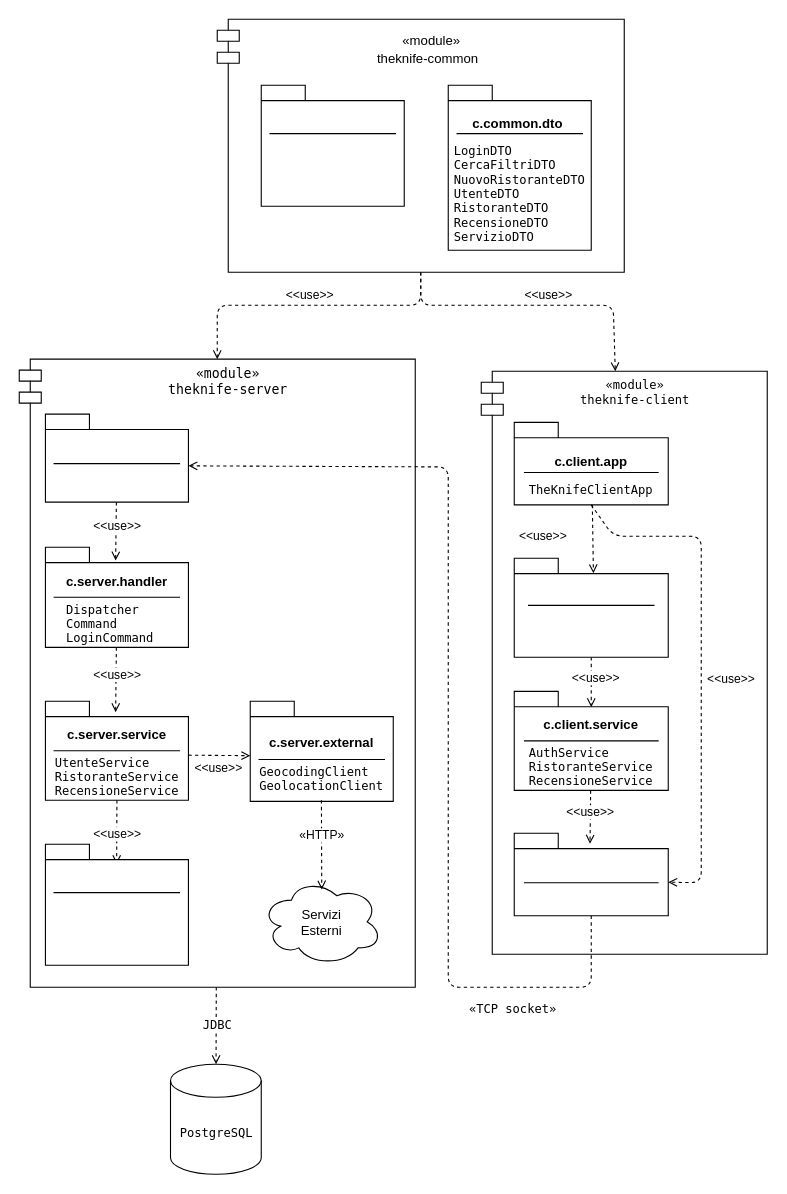
This 787x1194 diagram has some shape labels left out. Each missing label, with the centre of its shape:
"c.client.network ServerConnection" goes at point (590, 874).
"c.client.ui LoginController HomeController DettaglioController" goes at point (590, 607).
"c.common.protocol Request Response ResponseStatus CommandType" goes at point (332, 145).
"c.server.dao UtenteDAO RistoranteDAO RecensioneDAO ServizioDAO" goes at point (116, 904).
"c.server.network TheKnifeServer ClientHandler" goes at point (116, 457).
